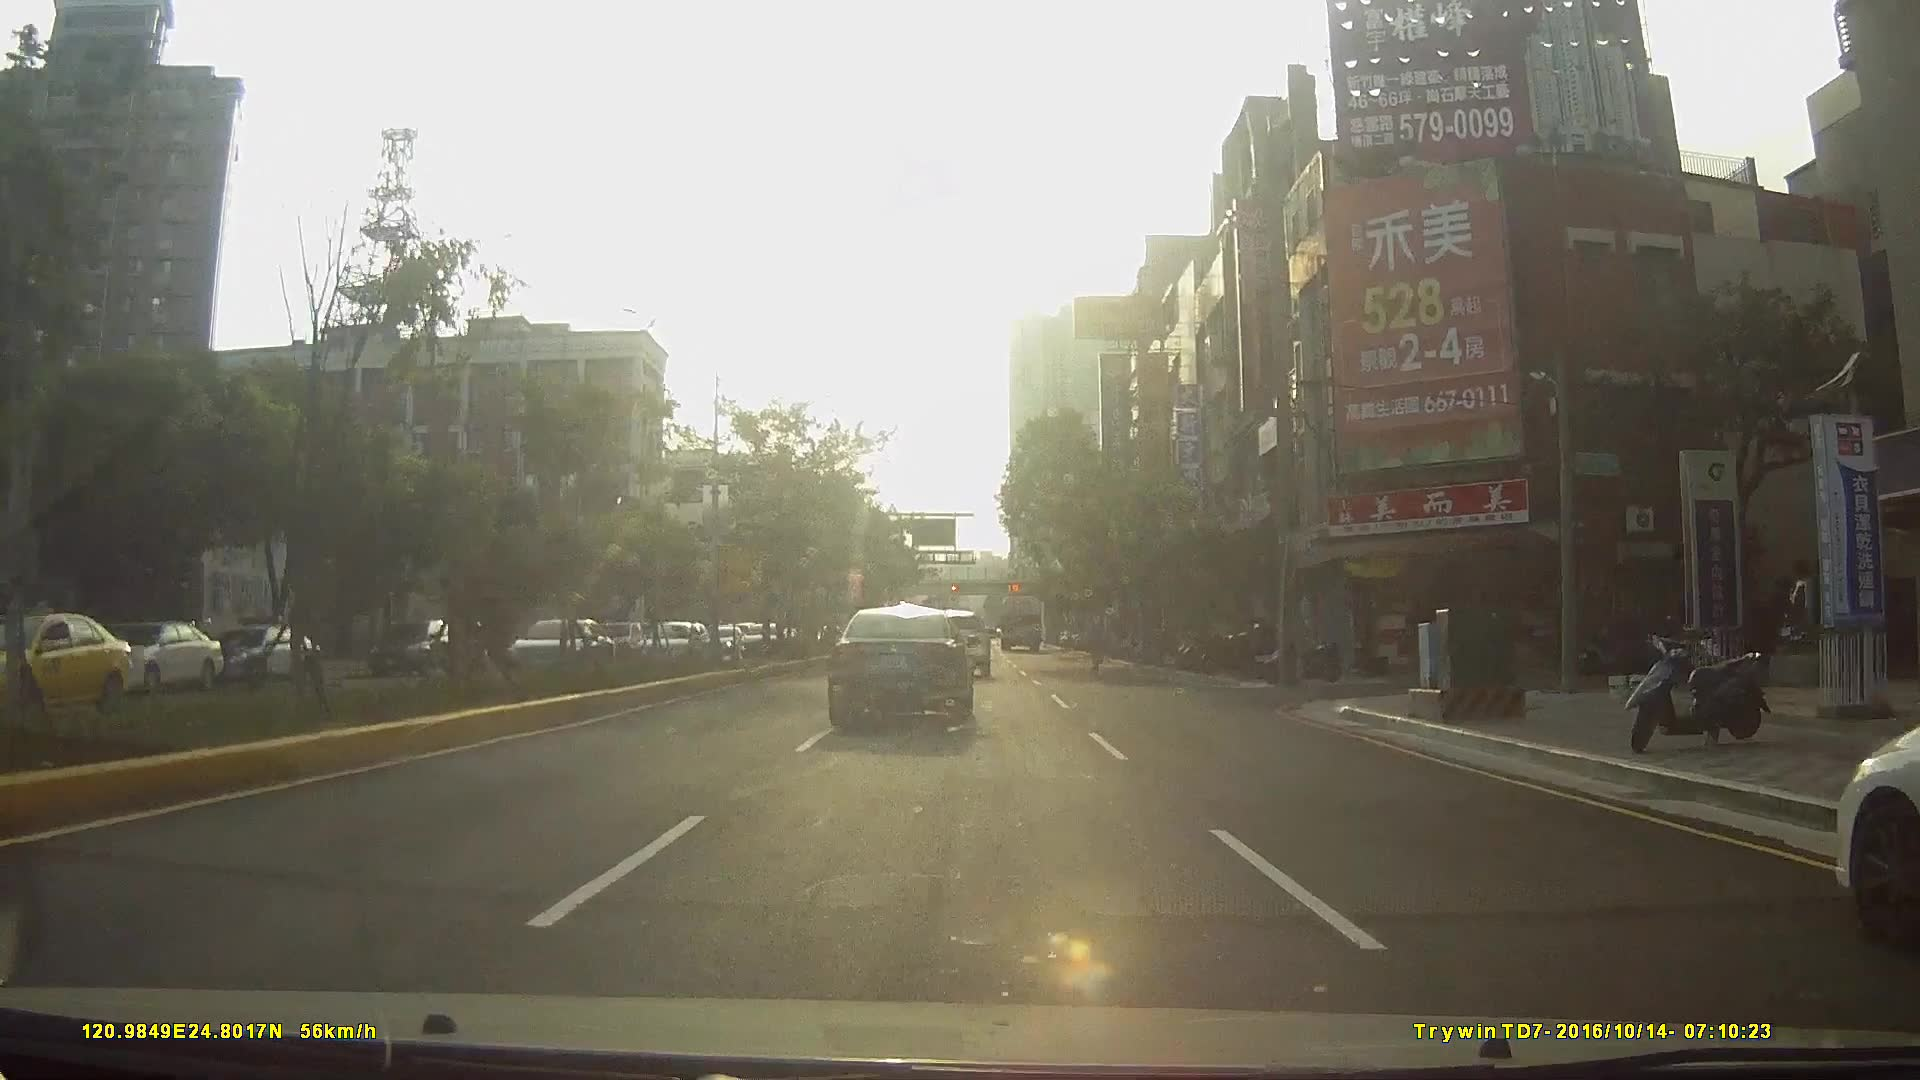vehicle: (1828, 715, 1920, 953), (825, 603, 975, 727), (1, 615, 141, 732), (71, 617, 215, 694), (193, 622, 314, 687), (488, 617, 607, 679), (359, 615, 458, 675), (626, 618, 704, 669), (998, 592, 1044, 654), (593, 621, 637, 661)
